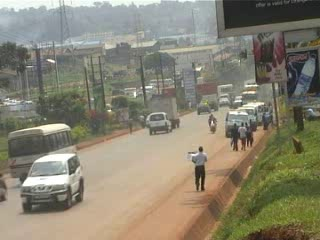Car: (20, 151, 86, 216), (144, 112, 173, 135), (0, 168, 10, 205), (194, 99, 212, 115), (217, 98, 229, 107)
Motorcycle: (206, 113, 216, 133)
